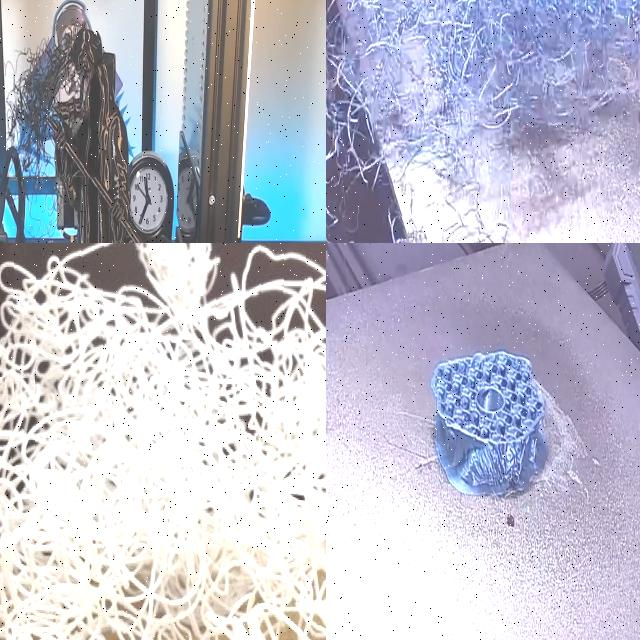spaghetti: (0, 243, 326, 640), (326, 0, 640, 243), (6, 8, 97, 177)
